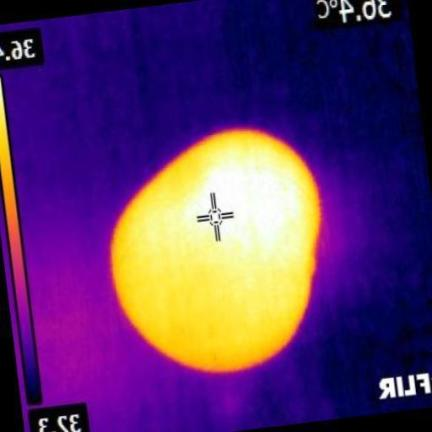mango: (112, 129, 321, 369)
